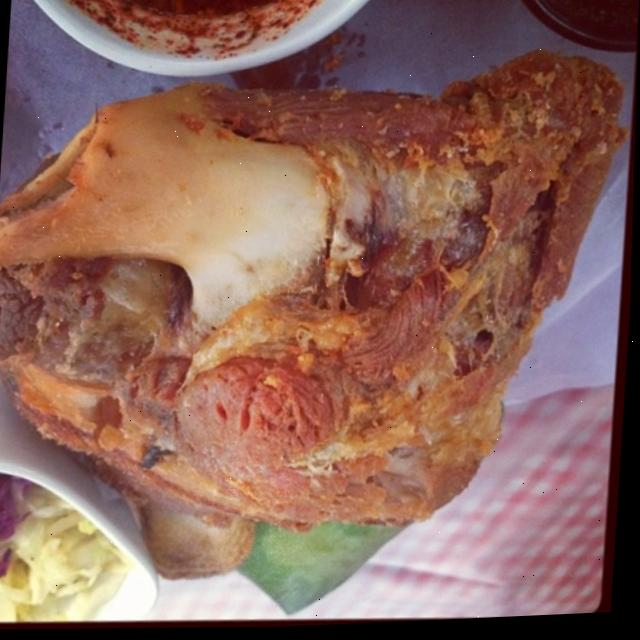猪肉菜式: (0, 0, 595, 605)
